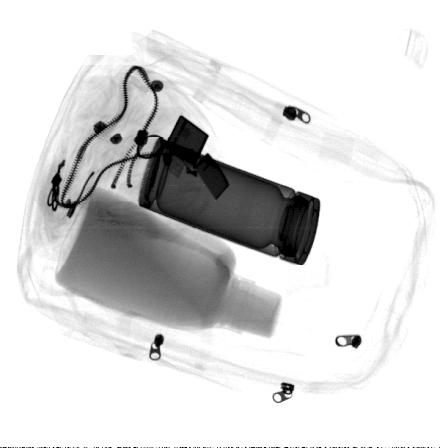Lighter: (162, 114, 229, 201)
